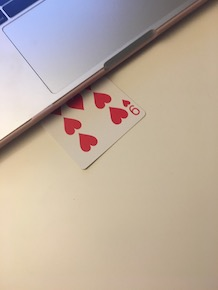NineOfHearts: (34, 73, 147, 170)
